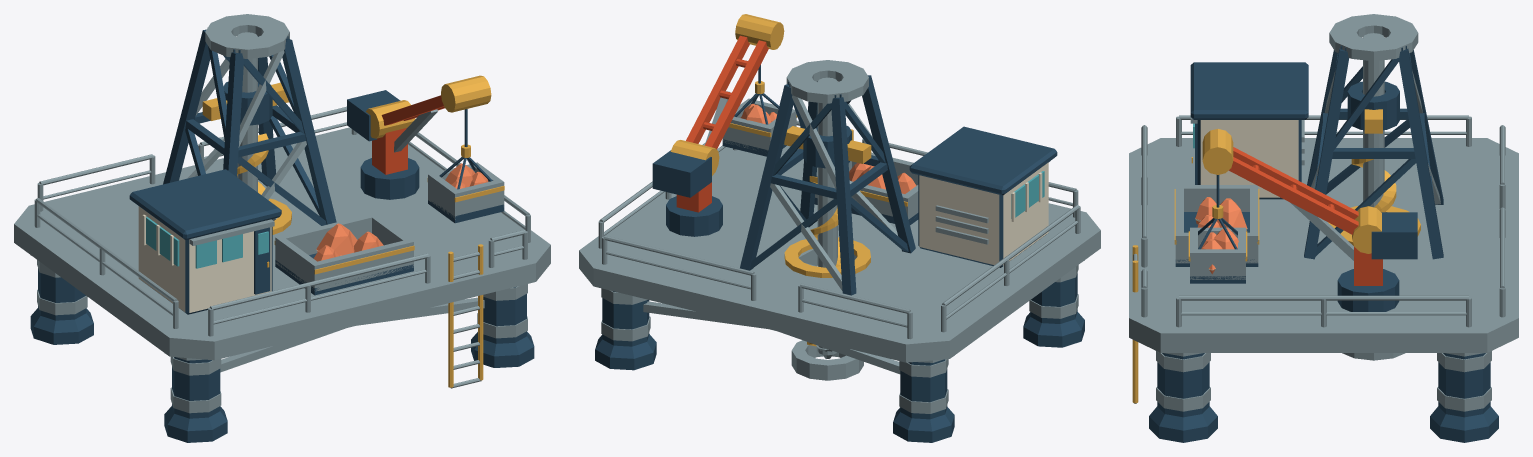
The model's file is ocean-mining-lv1.glb.
3 views of the same model, side by side, from view 1: azimuth 30°, elevation 25°; view 2: azimuth 150°, elevation 25°; view 3: azimuth 270°, elevation 25° (orthographic). The views are drawn at different scales.
Visible parts, largest first — view 1: Mining_L1, Suspended_Ore, Spindle_And_Auger; view 2: Mining_L1, Suspended_Ore, Spindle_And_Auger; view 3: Mining_L1, Suspended_Ore, Spindle_And_Auger, Ore_Slings.
Boxes of the visible parts, x1,y1,x2,y2 form: Mining_L1: (14,14,550,442); Suspended_Ore: (427,162,504,223); Spindle_And_Auger: (237,32,268,194); Mining_L1: (579,14,1100,442); Suspended_Ore: (722,98,797,156); Spindle_And_Auger: (807,77,840,358); Mining_L1: (1129,14,1518,442); Suspended_Ore: (1188,227,1247,283); Spindle_And_Auger: (1351,33,1396,212); Ore_Slings: (1198,205,1237,249).
Bounding box in the file's own units: 5.1 × 3.79 × 4.3.
